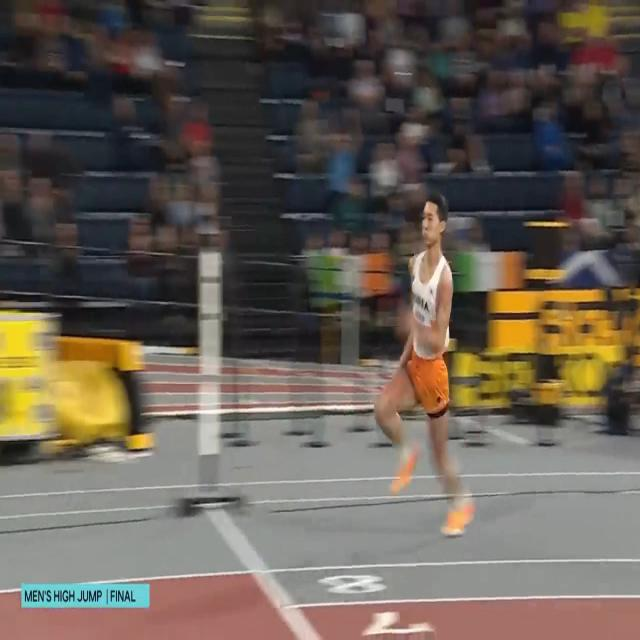run: (372, 188, 477, 540)
